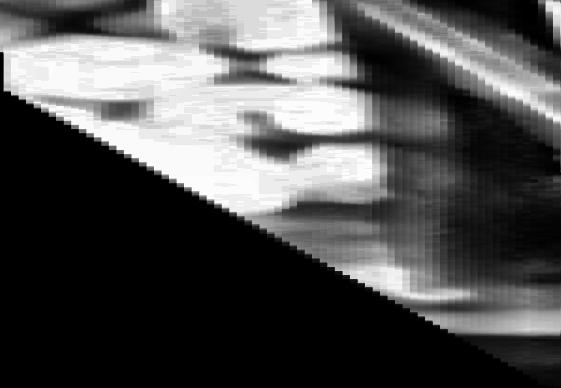obstacle: (1, 0, 560, 388)
